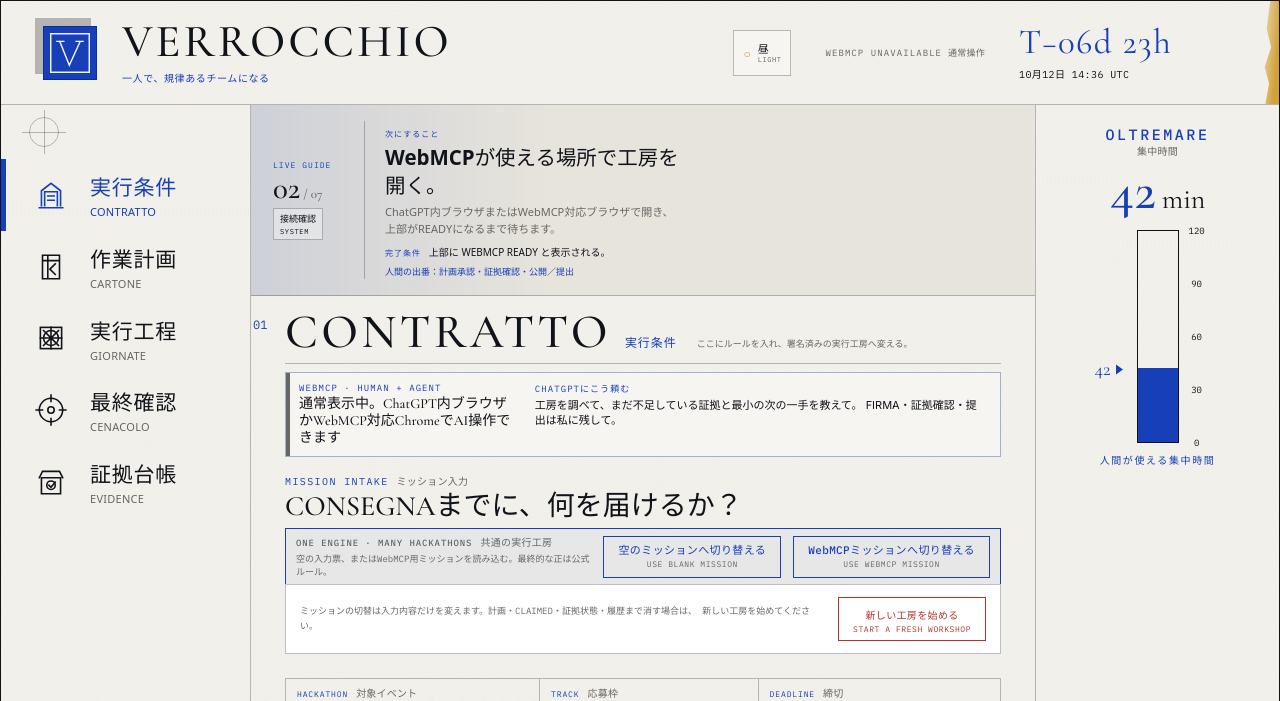
Test case: VERROCCHIO core path › requires human confirmation before replacing a claimed workshop
What coordinates should you click on to do the following:
click the button "新しい工房を始める START A FRESH WORKSHOP"
I would click on:
 (912, 619)
Its box is [838,597,986,641].
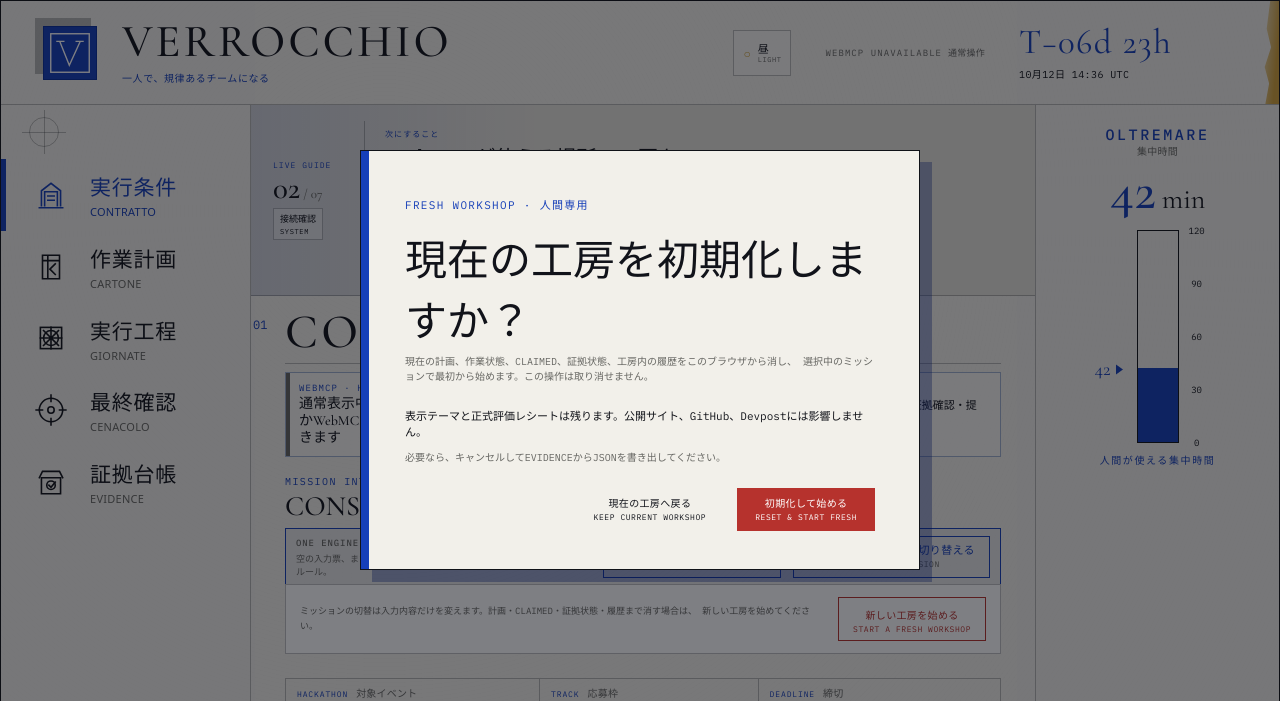
Expected: the dialog "現在の工房を初期化しますか" shows "CLAIMED", [405,355,873,383]
Expected: the dialog "現在の工房を初期化しますか" shows "表示テーマと正式評価レシートは残ります", [405,409,863,439]
What coordinates should you click on to do the following:
click the button "現在の工房へ戻る KEEP CURRENT WORKSHOP"
I would click on:
 (650, 510)
Its box is [577,488,723,531].
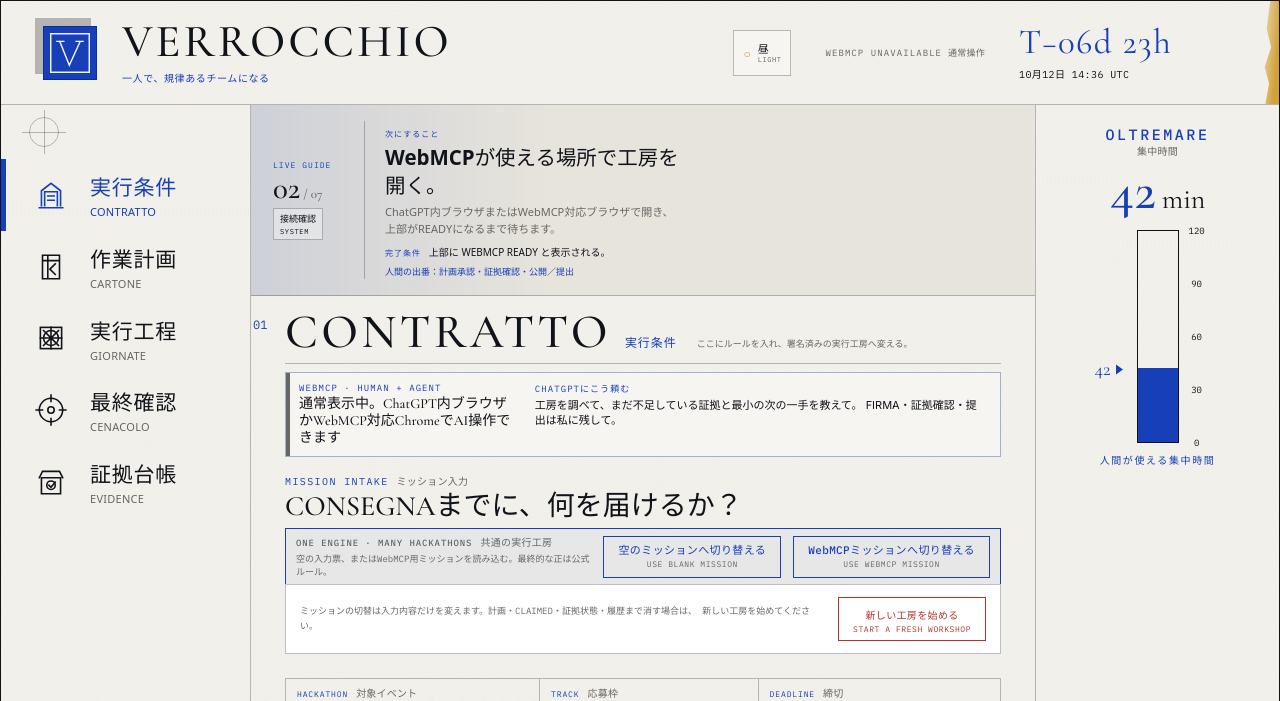
Expected: the dialog is gone
What coordinates should you click on to do the following:
click the button "新しい工房を始める START A FRESH WORKSHOP"
I would click on:
 (912, 619)
Its box is [838,597,986,641].
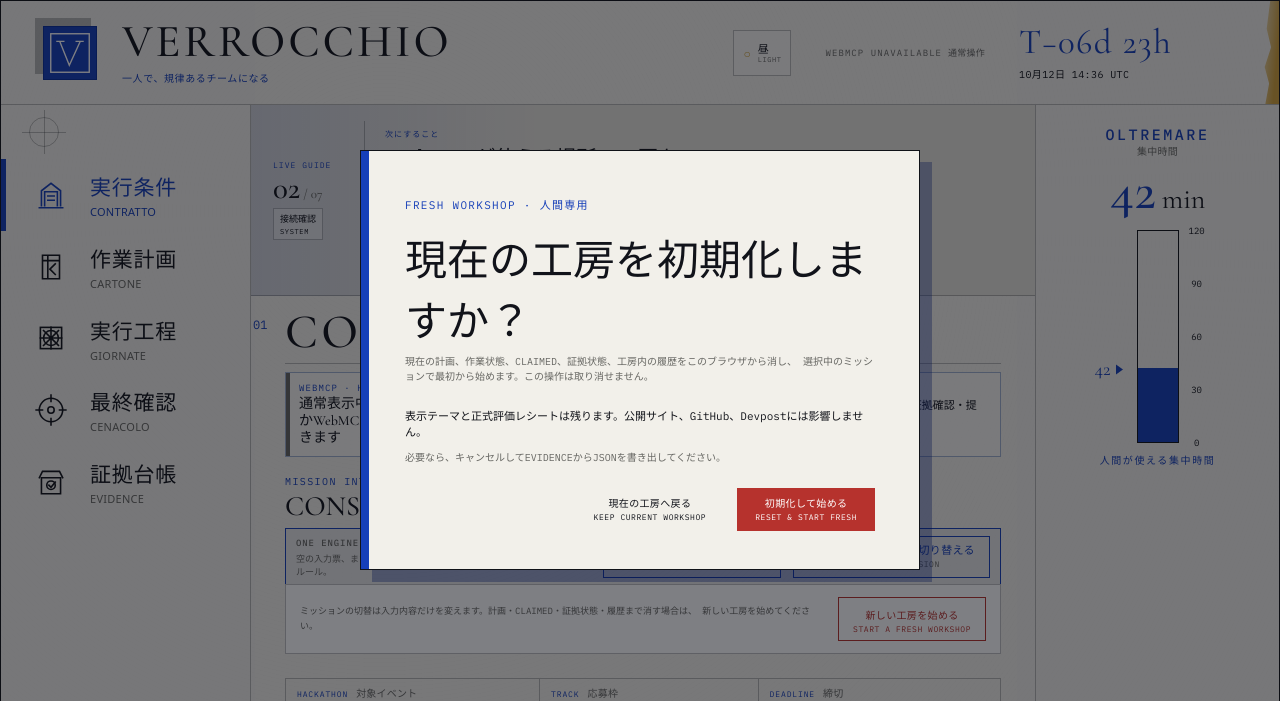
What coordinates should you click on to do the following:
click the button "初期化して始める RESET & START FRESH"
I would click on:
 (806, 510)
Its box is [737,488,875,531].
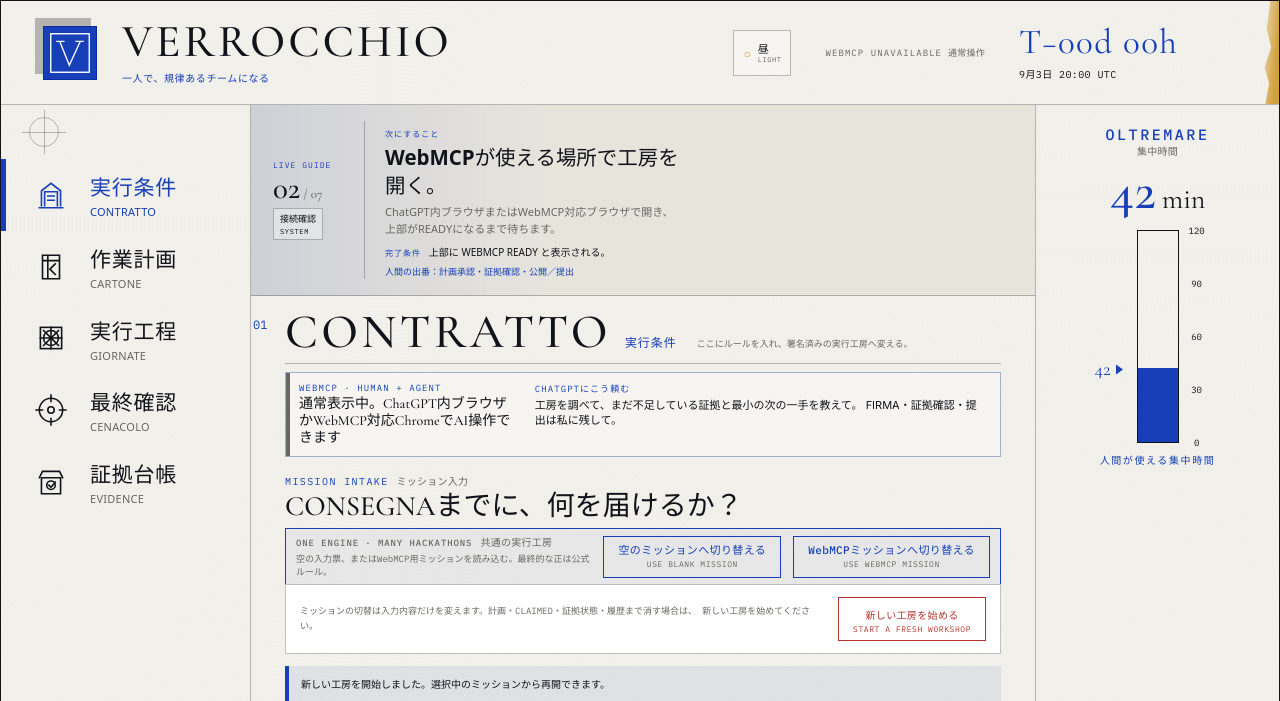
Expected: the text "LIVE GUIDE" does not show "06 / 07", [251,105,1035,296]
Expected: the dialog is gone
Expected: the message shows "新しい工房を開始しました", [301,678,610,691]
